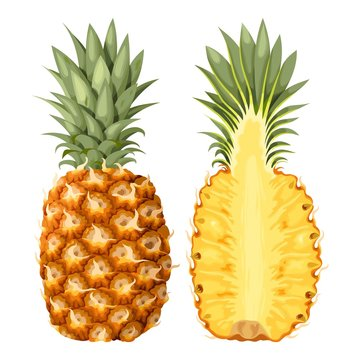Pineapple: (182, 16, 326, 343), (36, 18, 175, 341)
